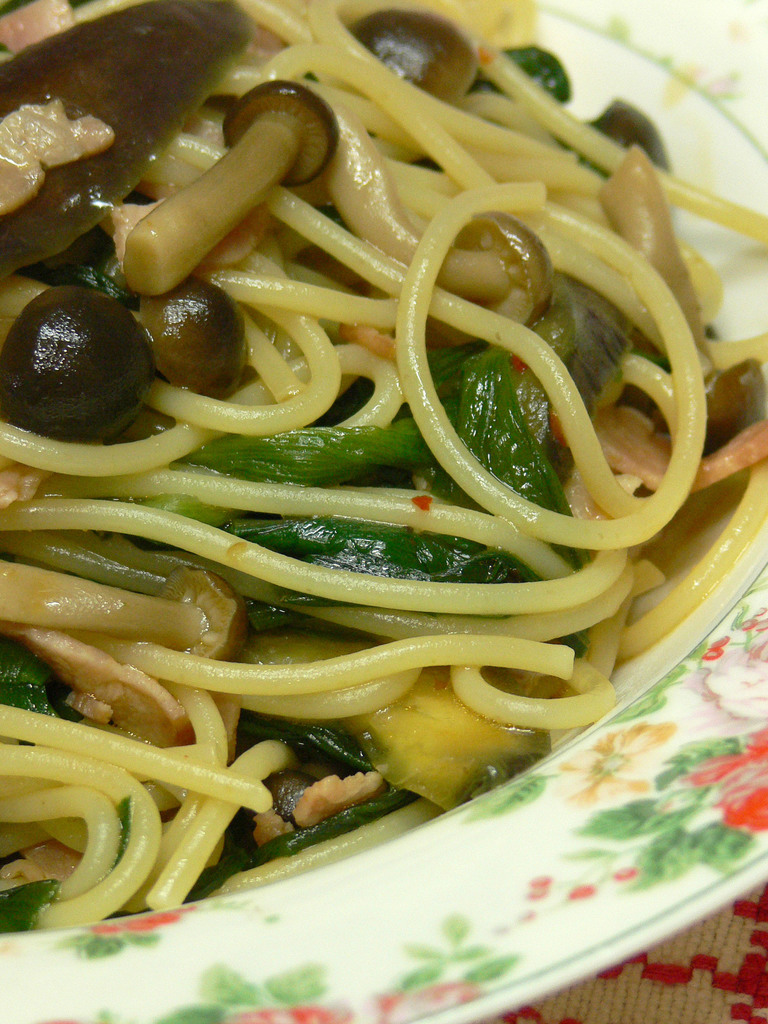pasta: (5, 0, 741, 933)
